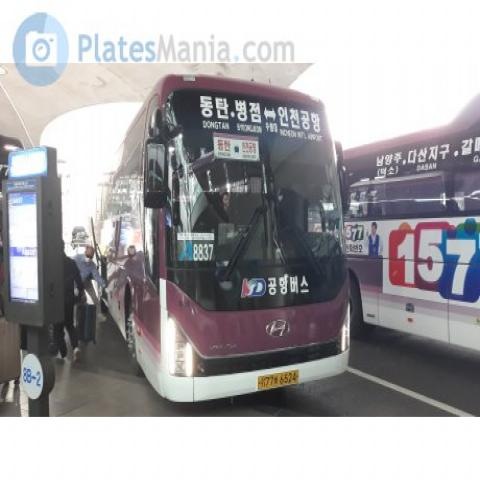LP: (253, 359, 303, 395)
